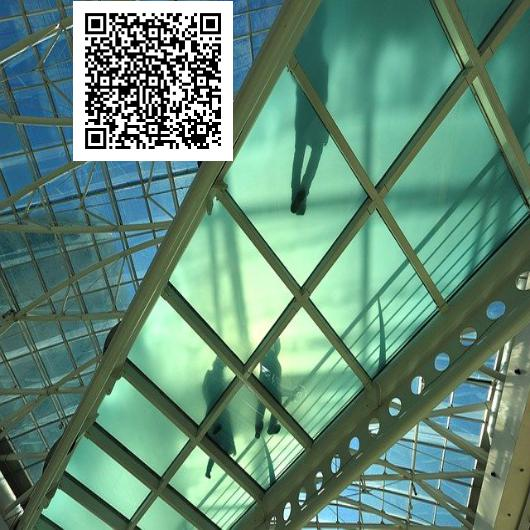qr_code: (73, 1, 232, 160)
